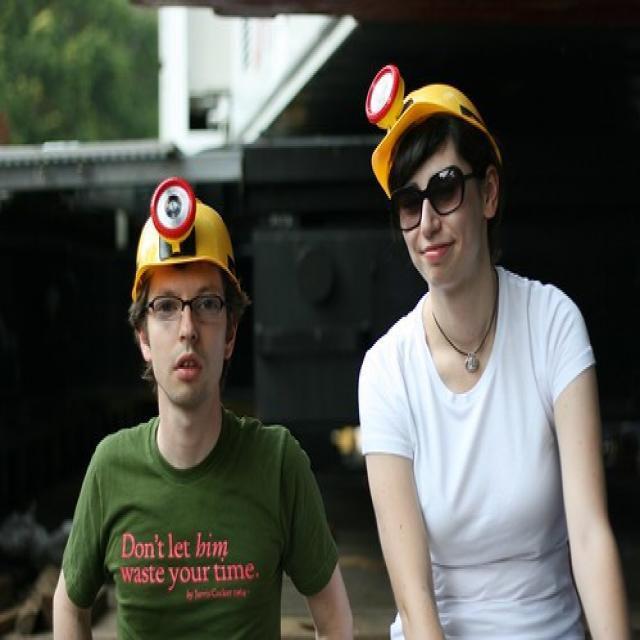safety_helmet: (368, 71, 506, 194), (127, 177, 249, 300)
